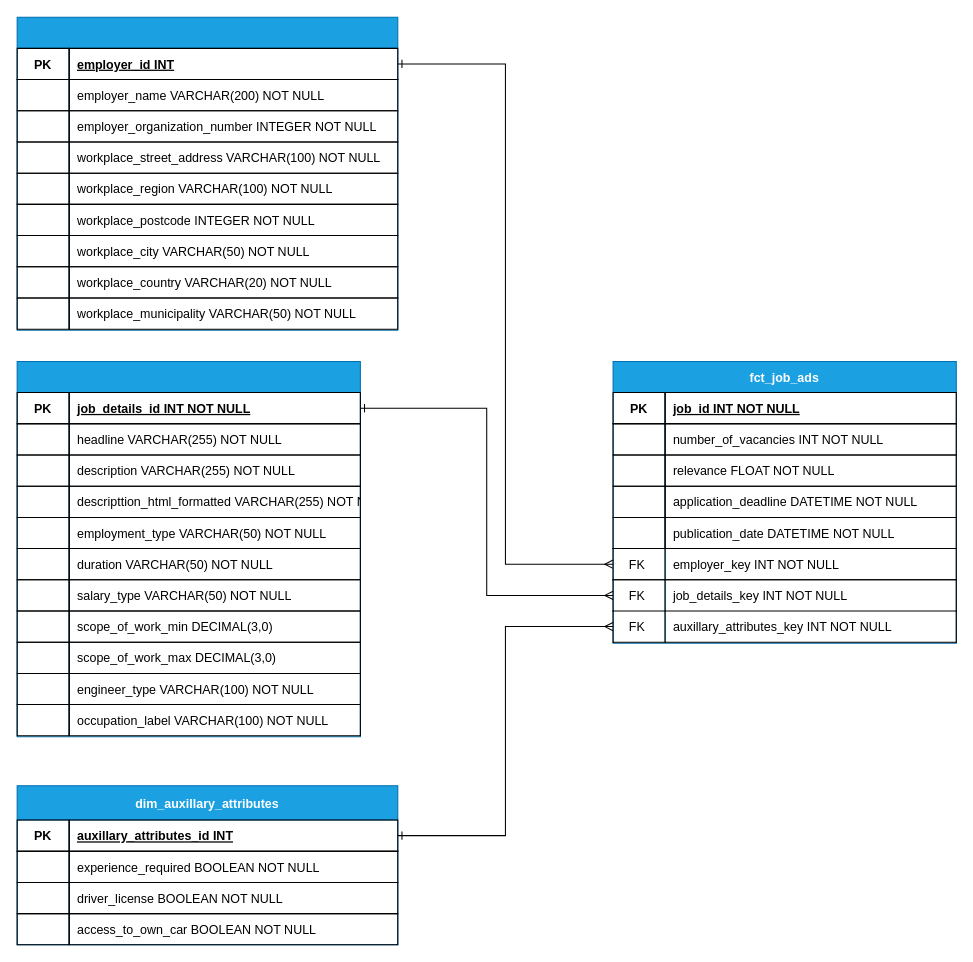
Some shapes in this 973 by 962 pixel diagram are drawn without their labels. The box of each missing label's shape, as (x1, y1, x2, y2) in pixels:
dim_employer: (16, 16, 398, 330)
dim_job_details: (16, 360, 360, 737)
